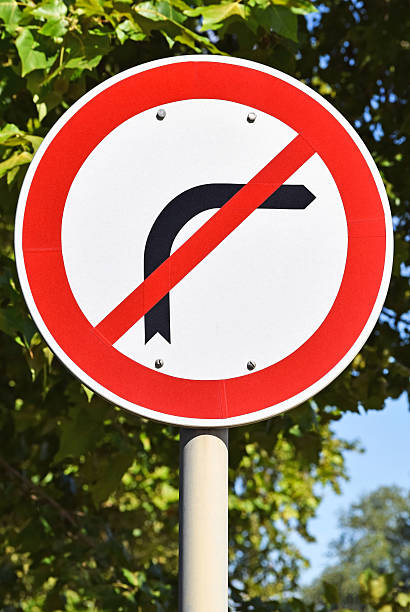saga_donulmez: (21, 59, 399, 425)
